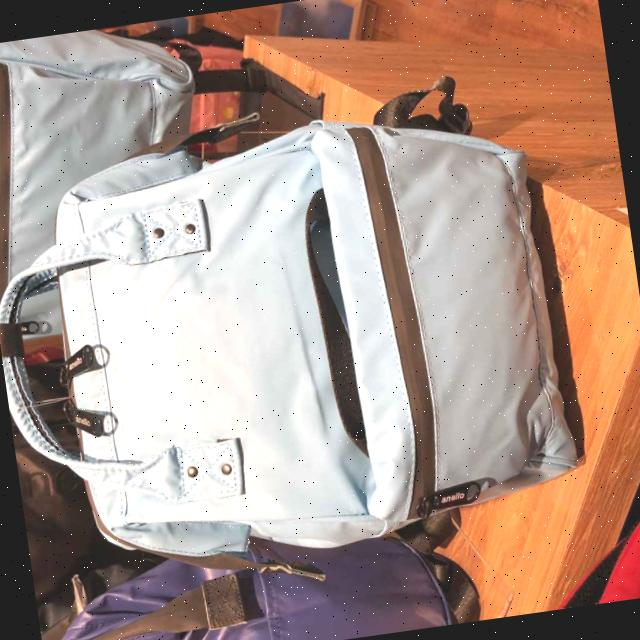Handbag: (0, 55, 600, 606)
